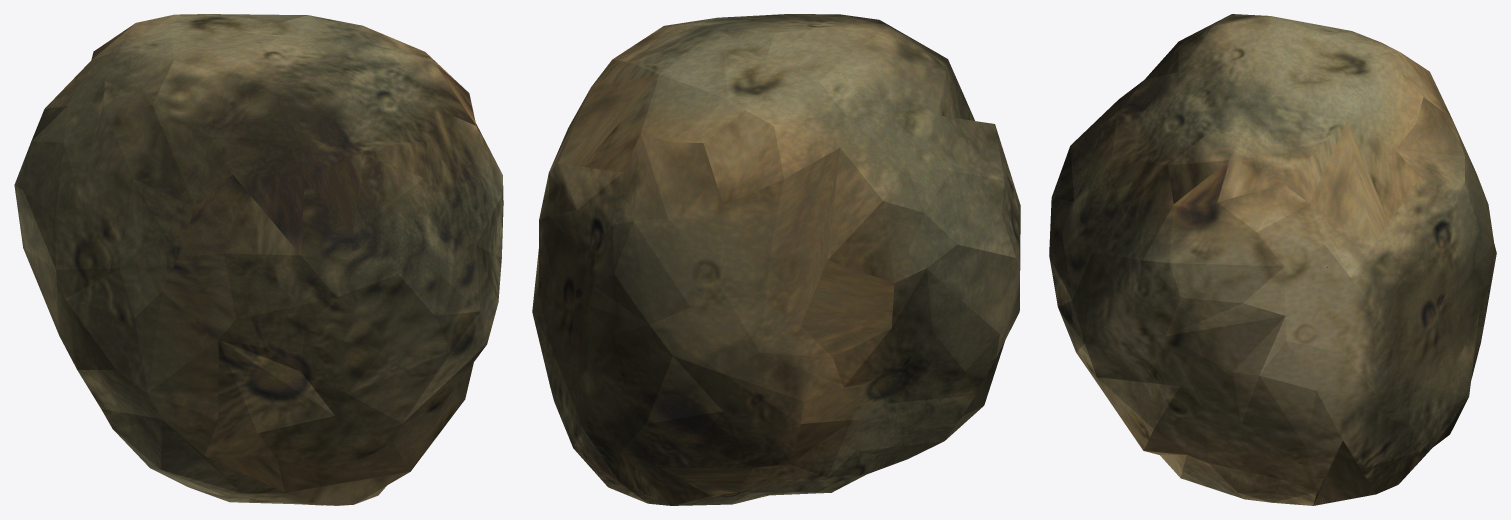
File: asteroid.obj
The picture shows the model from 3 angles, left to right: view 1: azimuth 30°, elevation 25°; view 2: azimuth 150°, elevation 25°; view 3: azimuth 270°, elevation 25°; orthographic projection. The views are drawn at different scales.
Bounding box in the file's own units: 1360 × 1376 × 1363.
